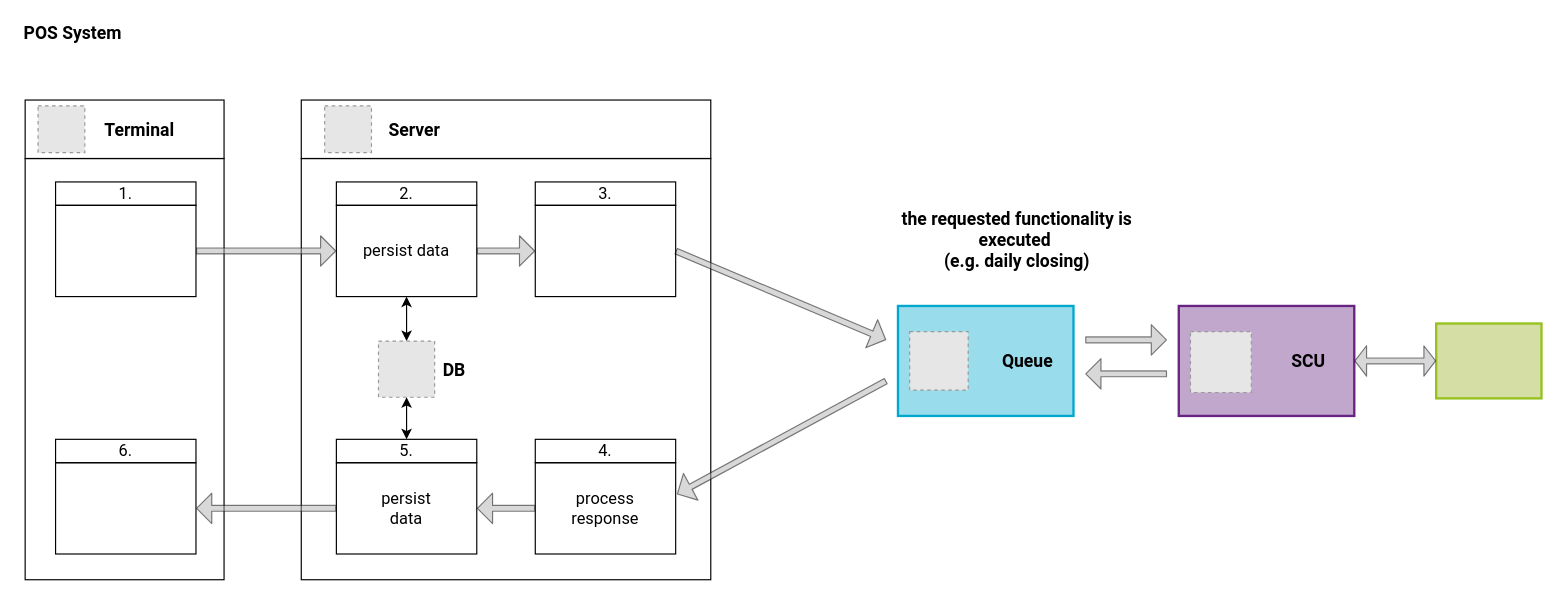
Some shapes in this 1562 by 600 pixel diagram are drawn without their labels. Grey dashed boxes stand in for pictures. Here are the shapes that lost their labels. From the top down, the centre of each, then its label:
At (x=125, y=250): "trigger functionality".
At (x=605, y=250): "send sign request (special receipt)".
At (x=1488, y=360): "TSE".
At (x=125, y=508): "compose and print the receipt".
